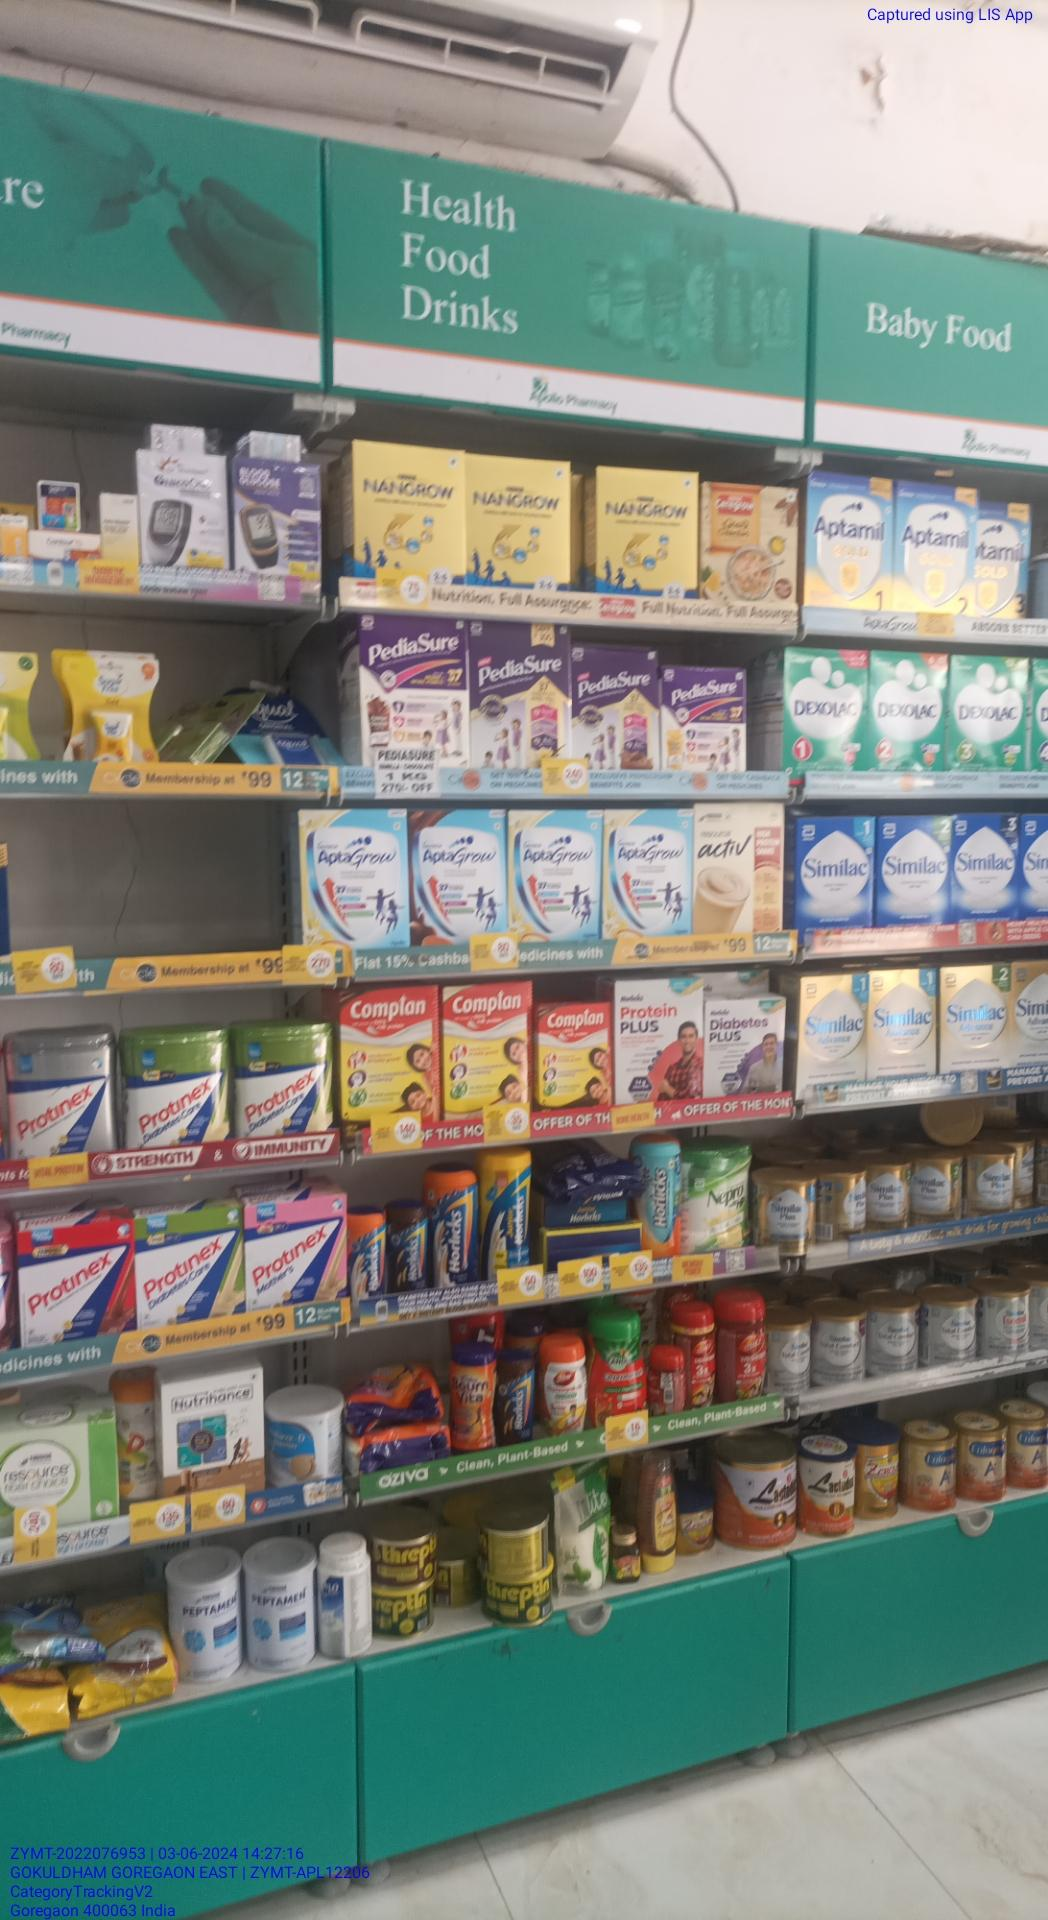BOURN_VITA_200_G_JAR: (447, 1343, 492, 1455)
COMPLAN_CHOCOLATE_200_GMS_PACK: (534, 1000, 610, 1114)
COMPLAN_KESAR_BADAM_500_GMS_PACK: (443, 982, 530, 1117)
HORLICKS_JUNIOR_VANILLA_500_GM_JAR: (484, 1150, 529, 1272)
HORLICKS_LITE_REGULAR_MALT_500_GM_JAR: (630, 1132, 681, 1254)
HORLICK_CLASSIC_MALT_200_G_JAR: (348, 1205, 386, 1299)
HORLICK_CLASSIC_MALT_500_G_JAR: (432, 1164, 480, 1289)
PEDIASURE_CHOCOLATE_500_G_PACK: (570, 643, 653, 773)
PEDIASURE_VANILLA_500_G_PACK: (470, 622, 565, 769), (656, 654, 745, 778)
PROTINEX_ORIGINAL_400_G_JAR: (10, 1026, 114, 1154)
